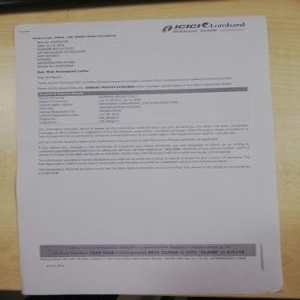image: (160, 20, 246, 36)
text: (38, 87, 253, 173), (29, 33, 235, 87)
